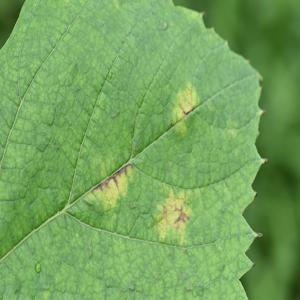Folha: (0, 0, 267, 299)
Fungo: (155, 186, 192, 242), (91, 163, 133, 212), (170, 81, 200, 126), (174, 205, 189, 225), (256, 232, 263, 238), (264, 158, 268, 164)
